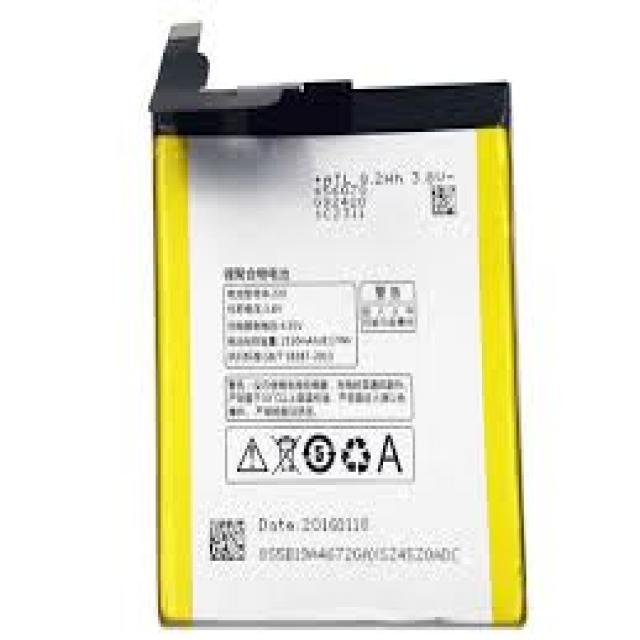non-organic waste: (151, 20, 527, 630)
